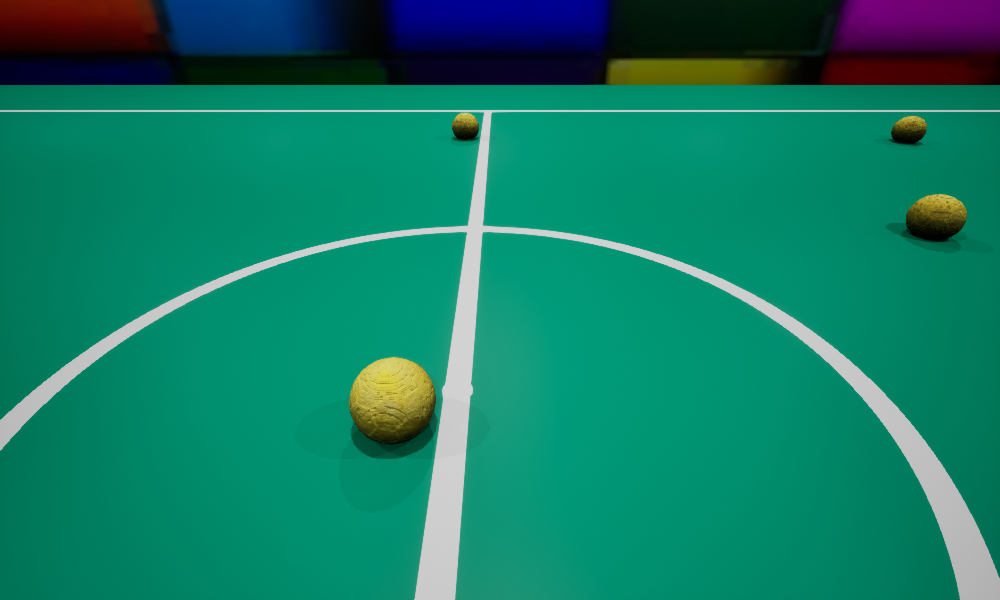b: (349, 357, 435, 443), (906, 194, 966, 239), (891, 116, 926, 143), (452, 113, 478, 139)
